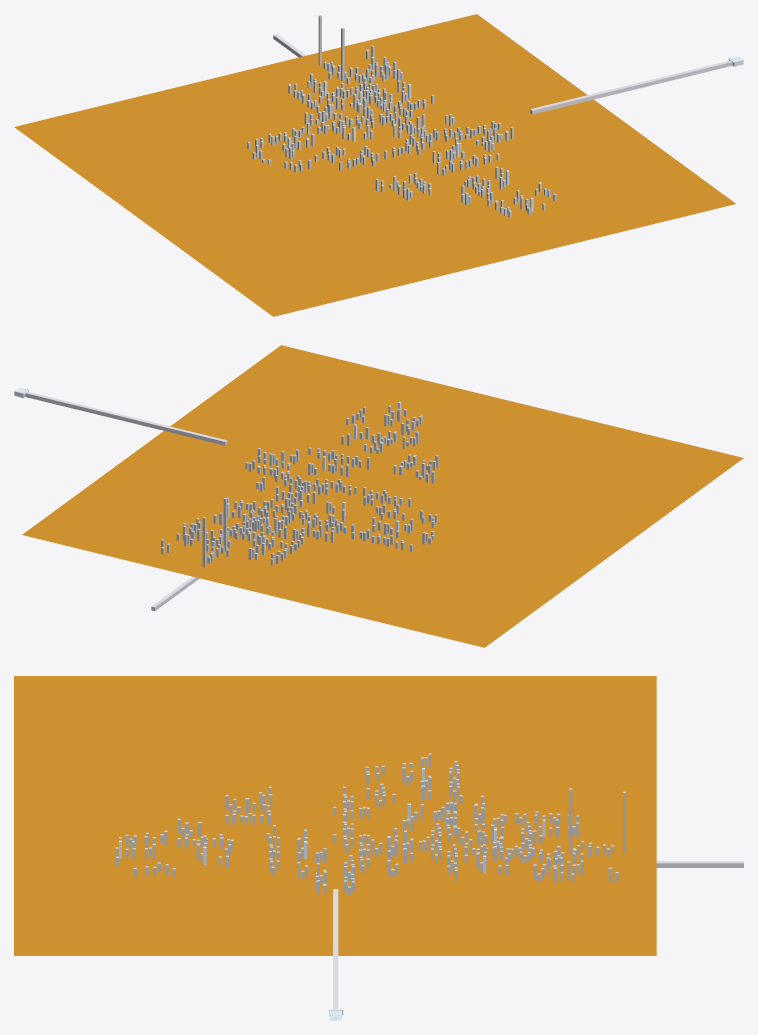
3 views of the same model, one above another, from view 1: azimuth 30°, elevation 25°; view 2: azimuth 150°, elevation 25°; view 3: azimuth 270°, elevation 25° (orthographic). The views are drawn at different scales.
Visible parts, largest first — view 1: Cube.038, Cube.009; view 2: Cube.038, Cube.009; view 3: Cube.038, Cube.009, Cube.301.
Part boxes in pixels (x1=…): Cube.038: x1=14, y1=14, x2=735, y2=316; Cube.009: x1=530, y1=60, x2=732, y2=114; Cube.038: x1=22, y1=345, x2=743, y2=647; Cube.009: x1=25, y1=392, x2=227, y2=445; Cube.038: x1=14, y1=676, x2=656, y2=955; Cube.009: x1=333, y1=889, x2=338, y2=1009; Cube.301: x1=656, y1=861, x2=743, y2=867.
Size of the model in its own units: 2379 by 235 by 2031.
